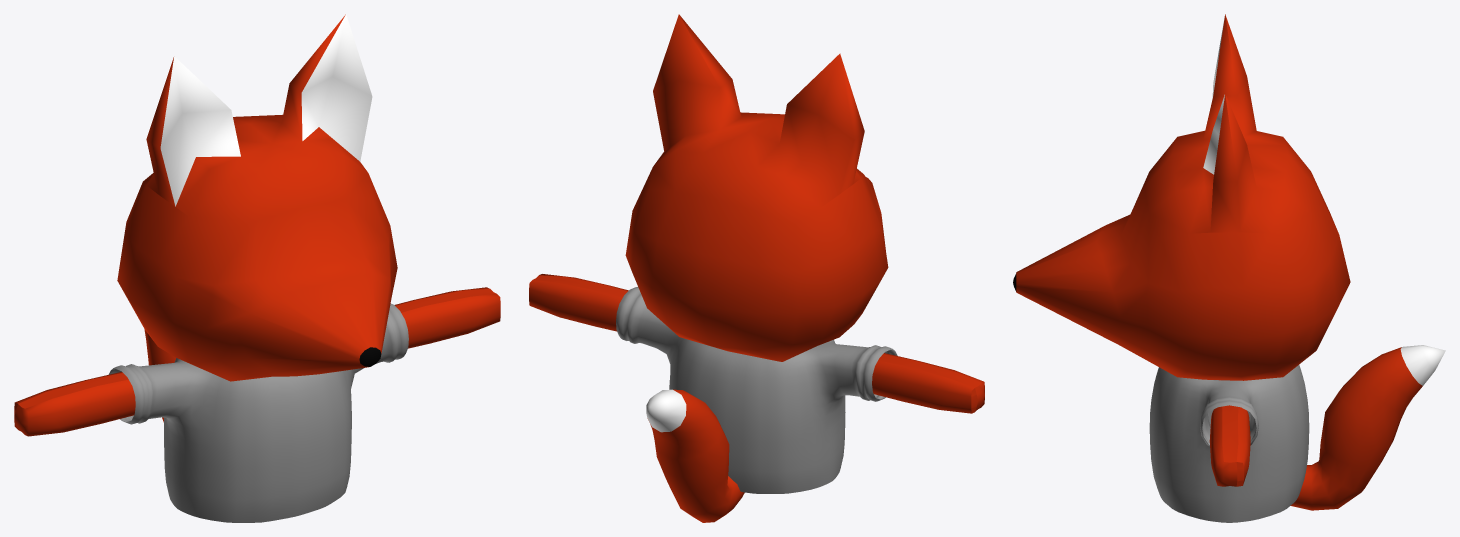
The model's file is fox_in_cart_mesh_002.FBX.
The picture shows the model from 3 angles, left to right: view 1: azimuth 30°, elevation 25°; view 2: azimuth 150°, elevation 25°; view 3: azimuth 270°, elevation 25°; orthographic projection. The views are drawn at different scales.
Parts seen in each view (by area): view 1: incart racesuit; view 2: incart racesuit; view 3: incart racesuit.
Boxes of the visible parts, box(x1,y1,x2,y2) form: incart racesuit: box(14, 14, 500, 522); incart racesuit: box(529, 14, 984, 522); incart racesuit: box(1013, 14, 1445, 522).
Bounding box in the file's own units: 1.27 × 1.22 × 1.05.
